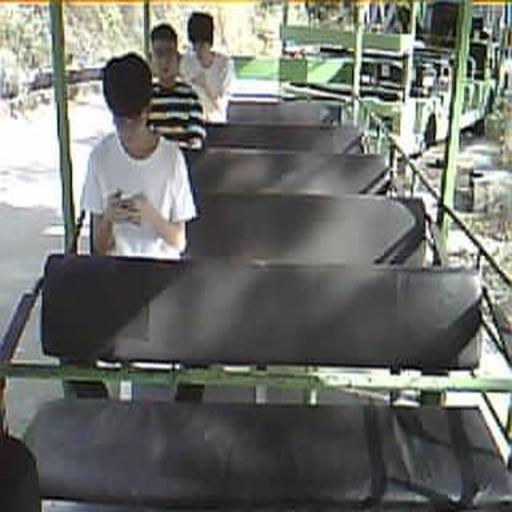persona: (78, 52, 198, 260), (144, 23, 207, 217), (179, 11, 232, 124)
